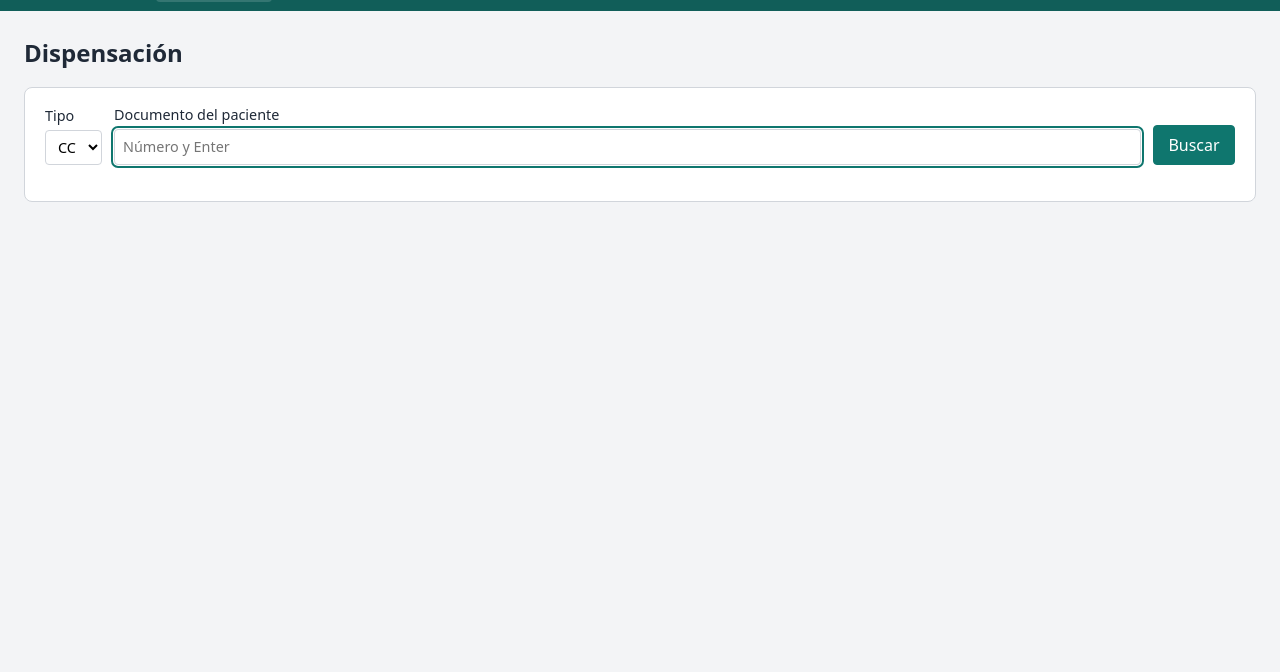
Test: Dispensación › muestra la vista previa FEFO con varios lotes calculada por el backend
The width and height of the screenshot is (1280, 672).
Type "9900000001" into the field labelled "Documento del paciente" at (628, 147), box x1=114 y1=129 x2=1141 y2=165
Then press Enter
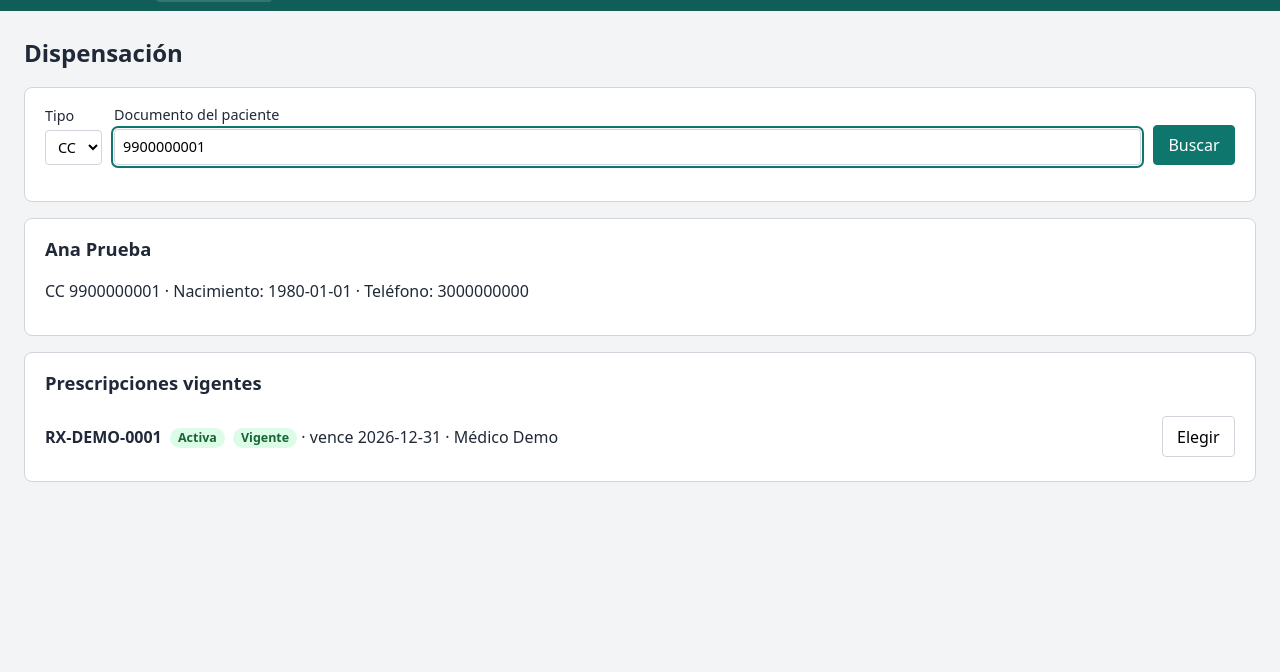
Click the button "Elegir" at (1198, 437), box x1=1162 y1=416 x2=1235 y2=457
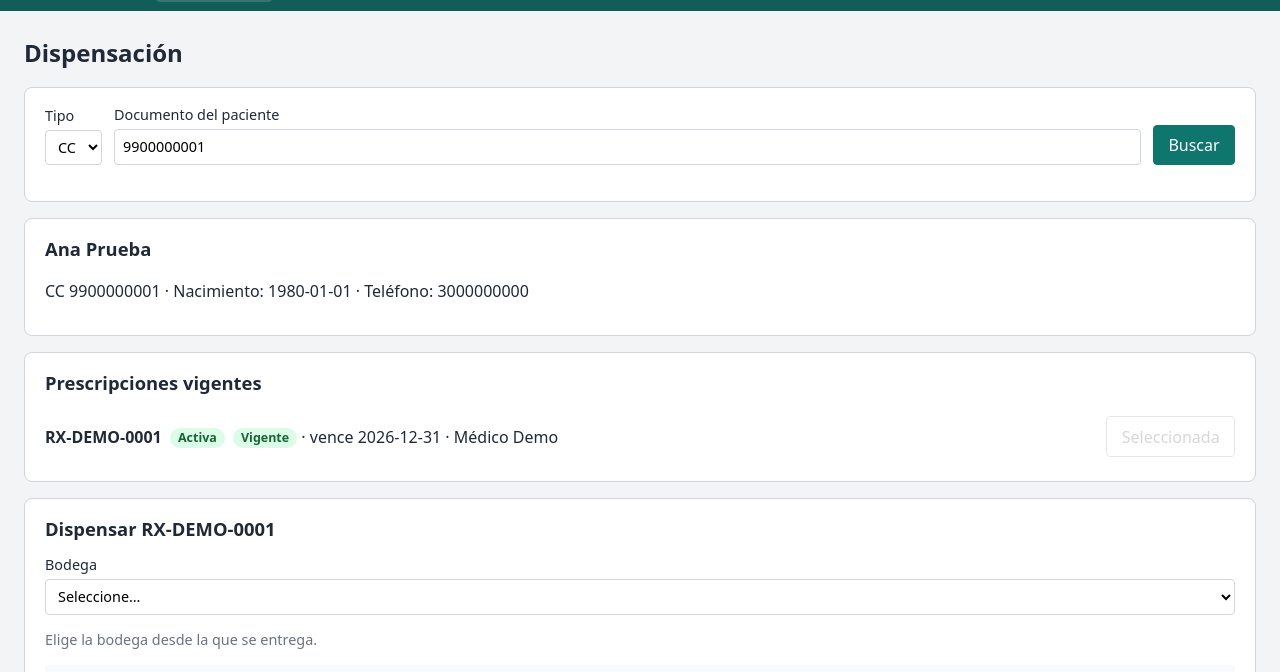
Select "Farmacia Central (FAR-CEN)" in the dropdown labelled "Bodega" at (640, 597), box x1=45 y1=579 x2=1235 y2=615
(page scrolled)
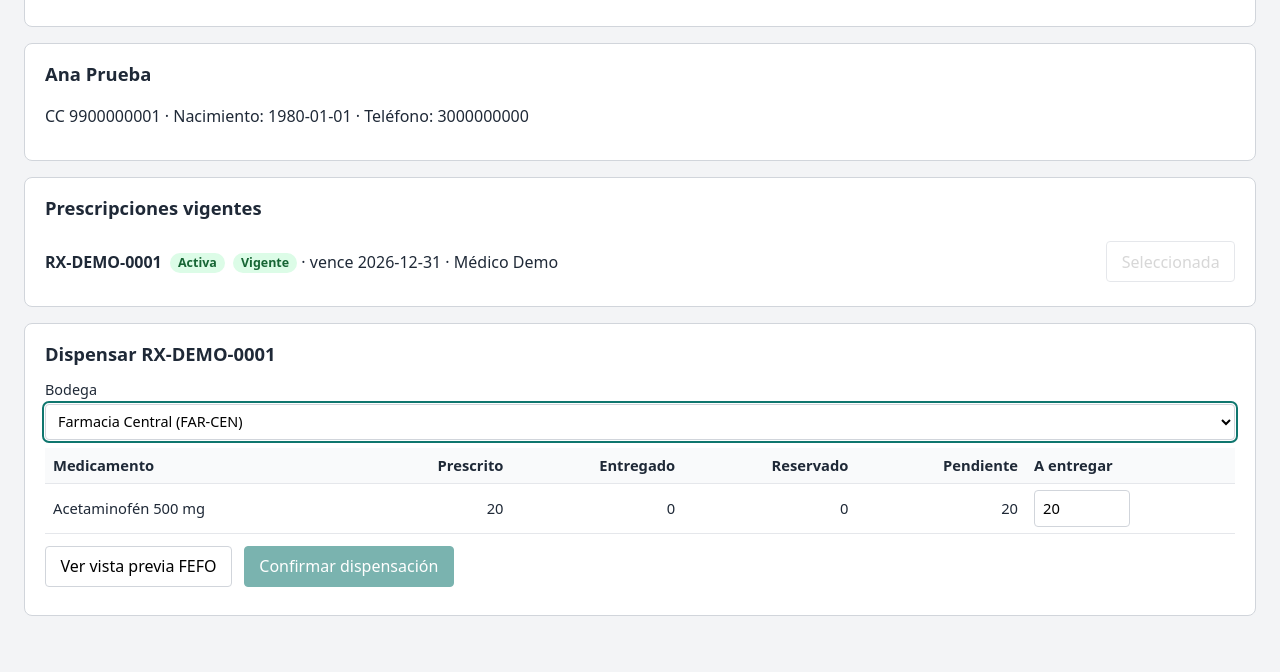
Click the button "Ver vista previa FEFO" at (138, 566), box x1=45 y1=546 x2=232 y2=587
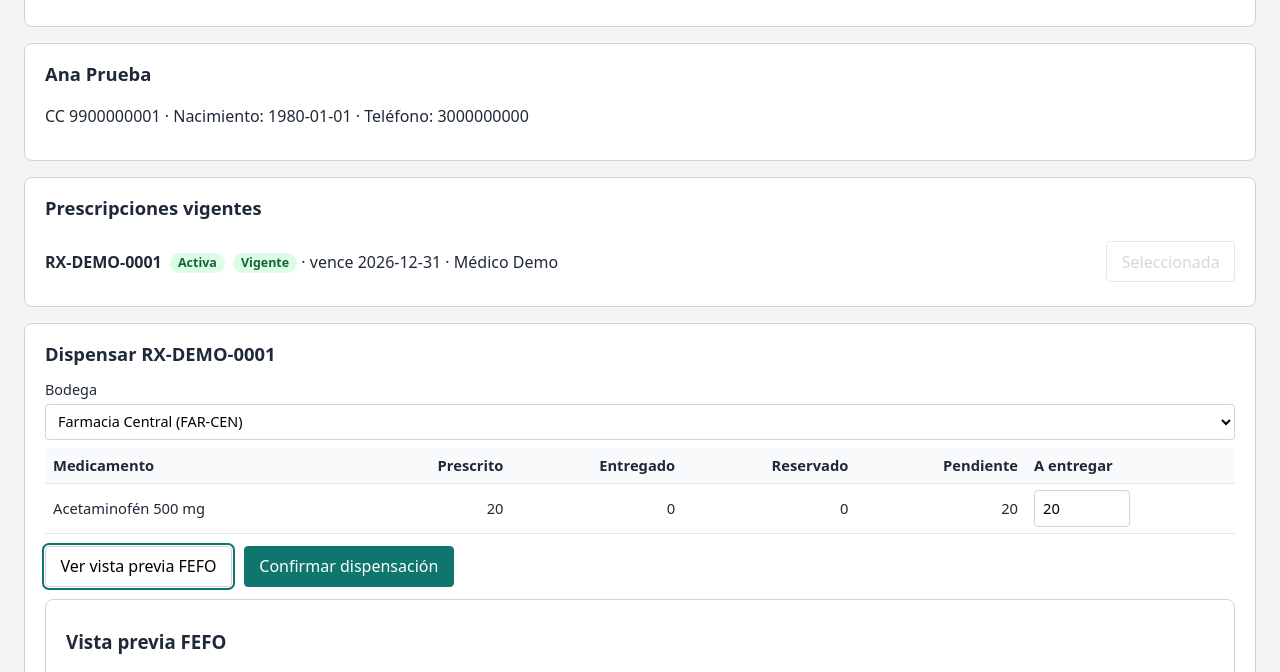
Expected: the button "Confirmar dispensación" is enabled, x1=244 y1=546 x2=454 y2=587
